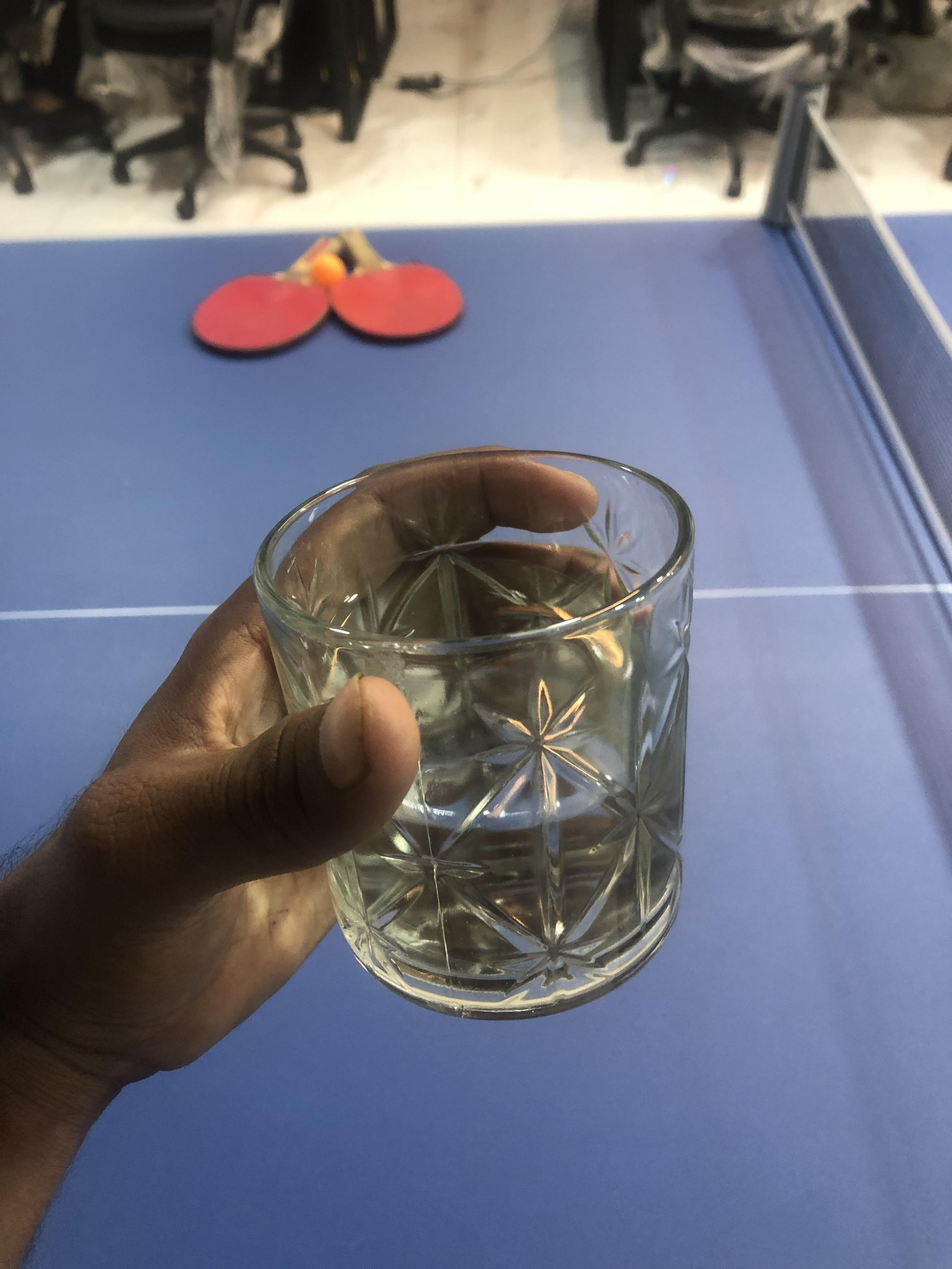glass-normal: (244, 427, 710, 1033)
